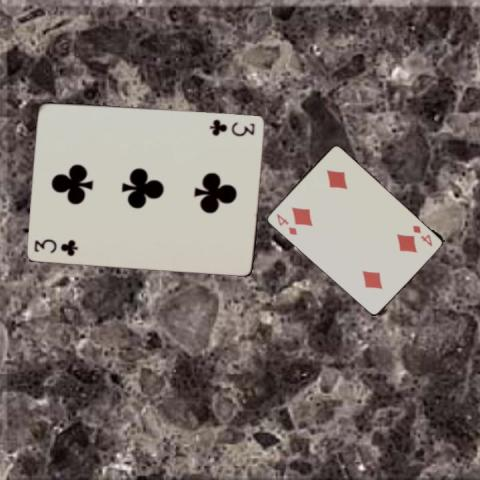3c: (207, 116, 257, 138), (31, 236, 80, 257)
4d: (273, 210, 298, 236), (410, 222, 434, 248)
